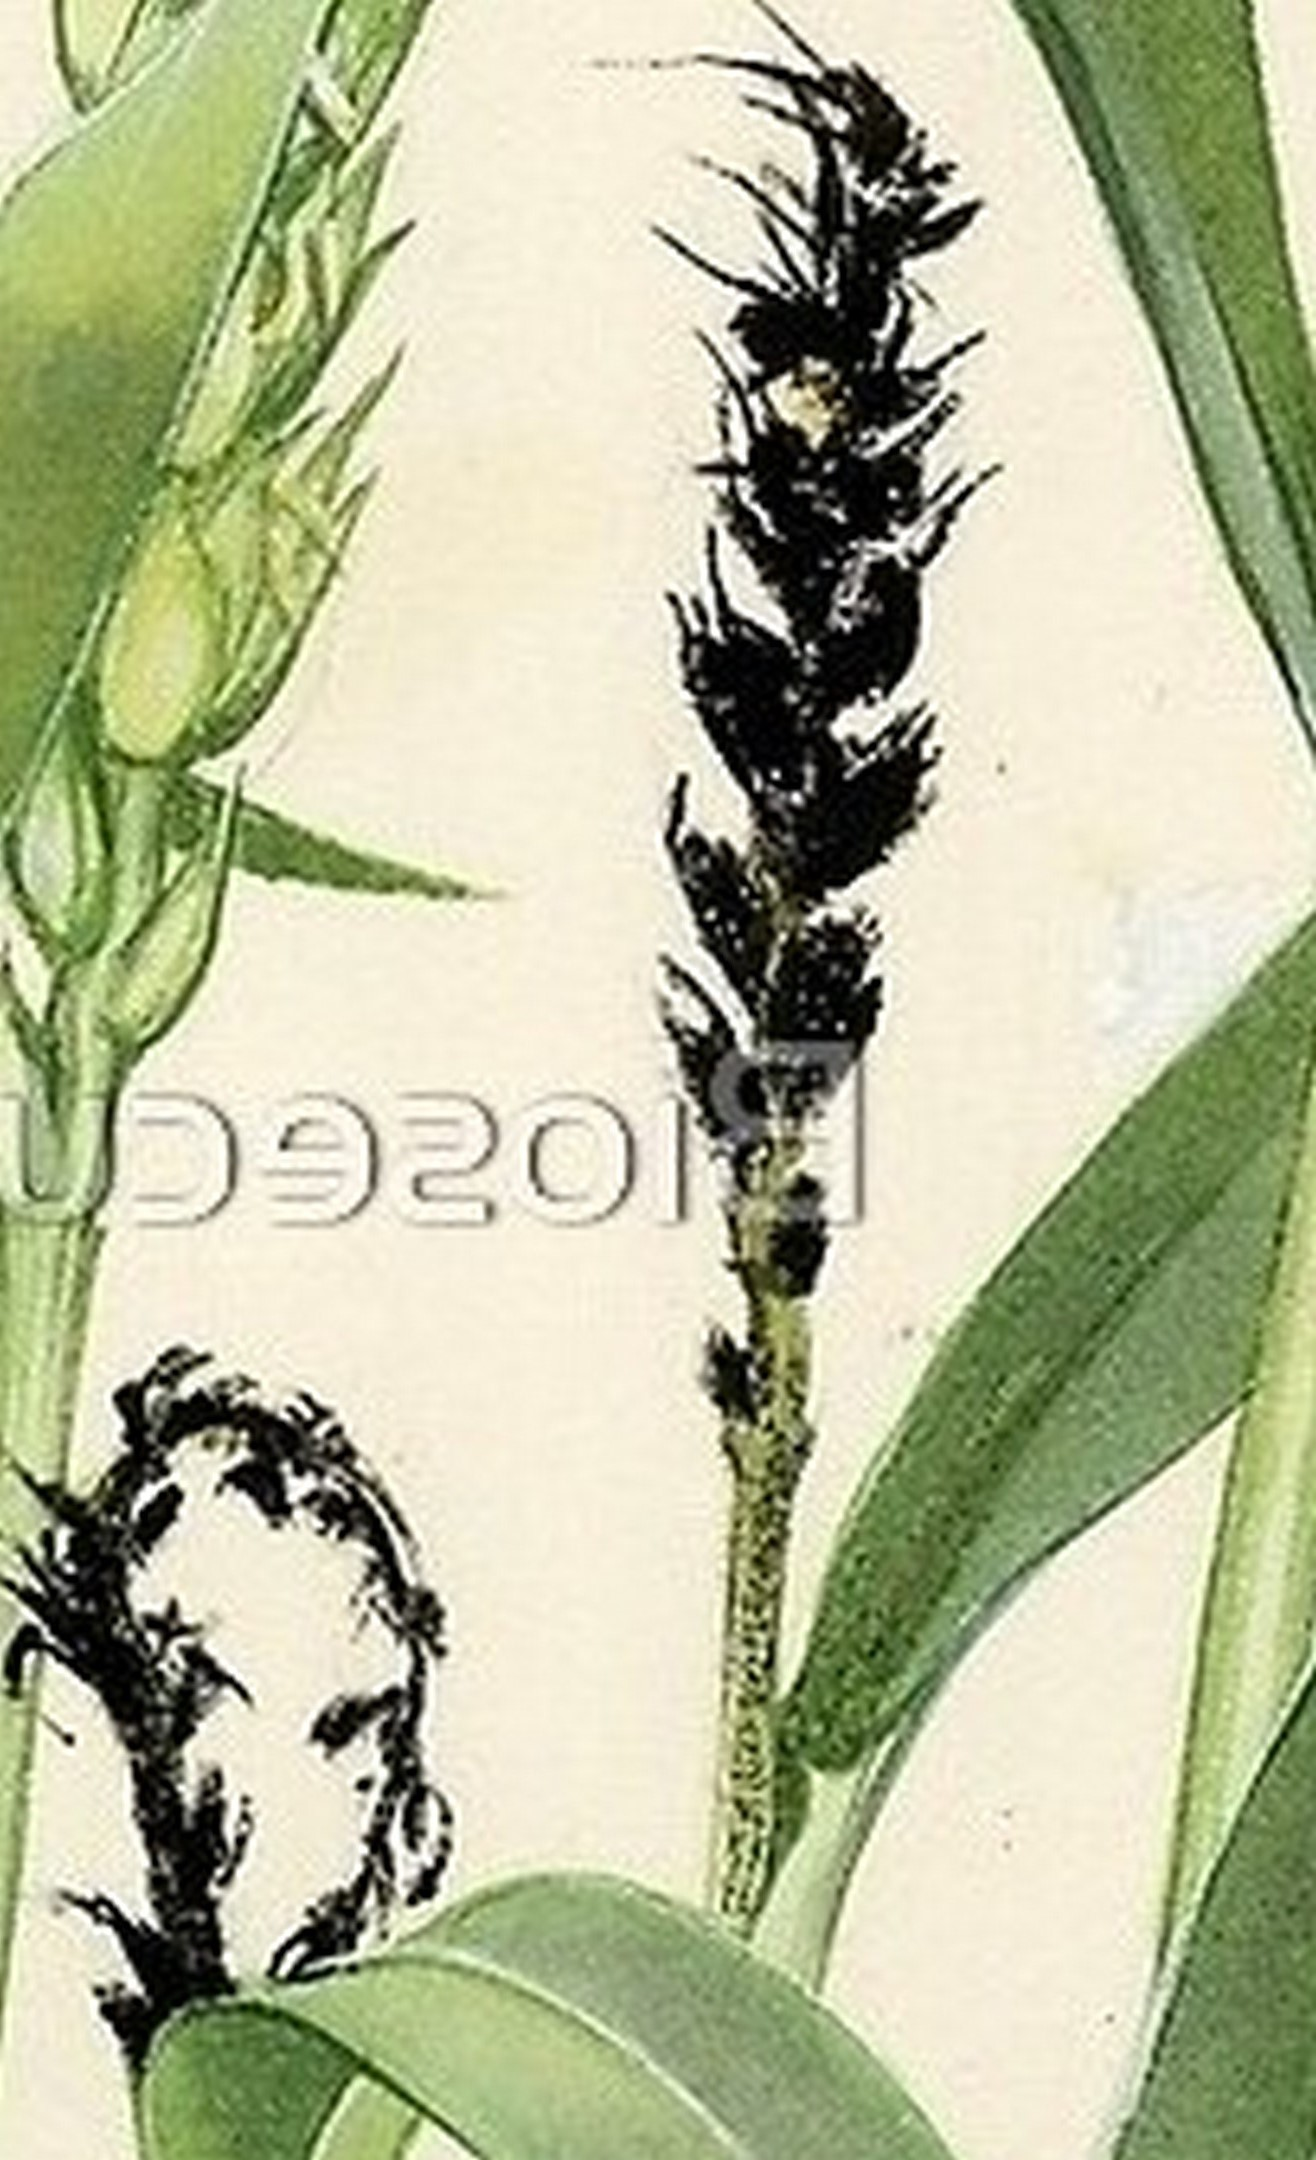Wheat Loose Smut: (596, 12, 1024, 1251)
